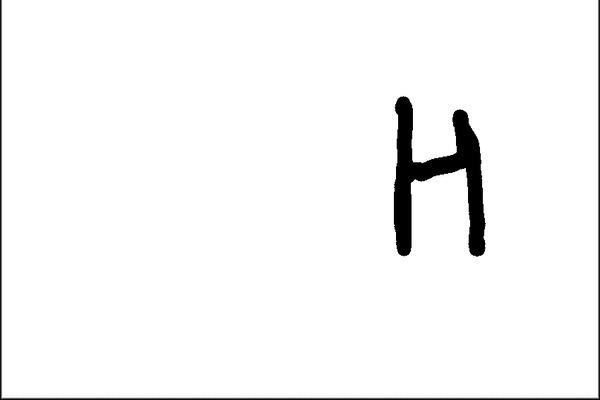H: (384, 86, 493, 263)
